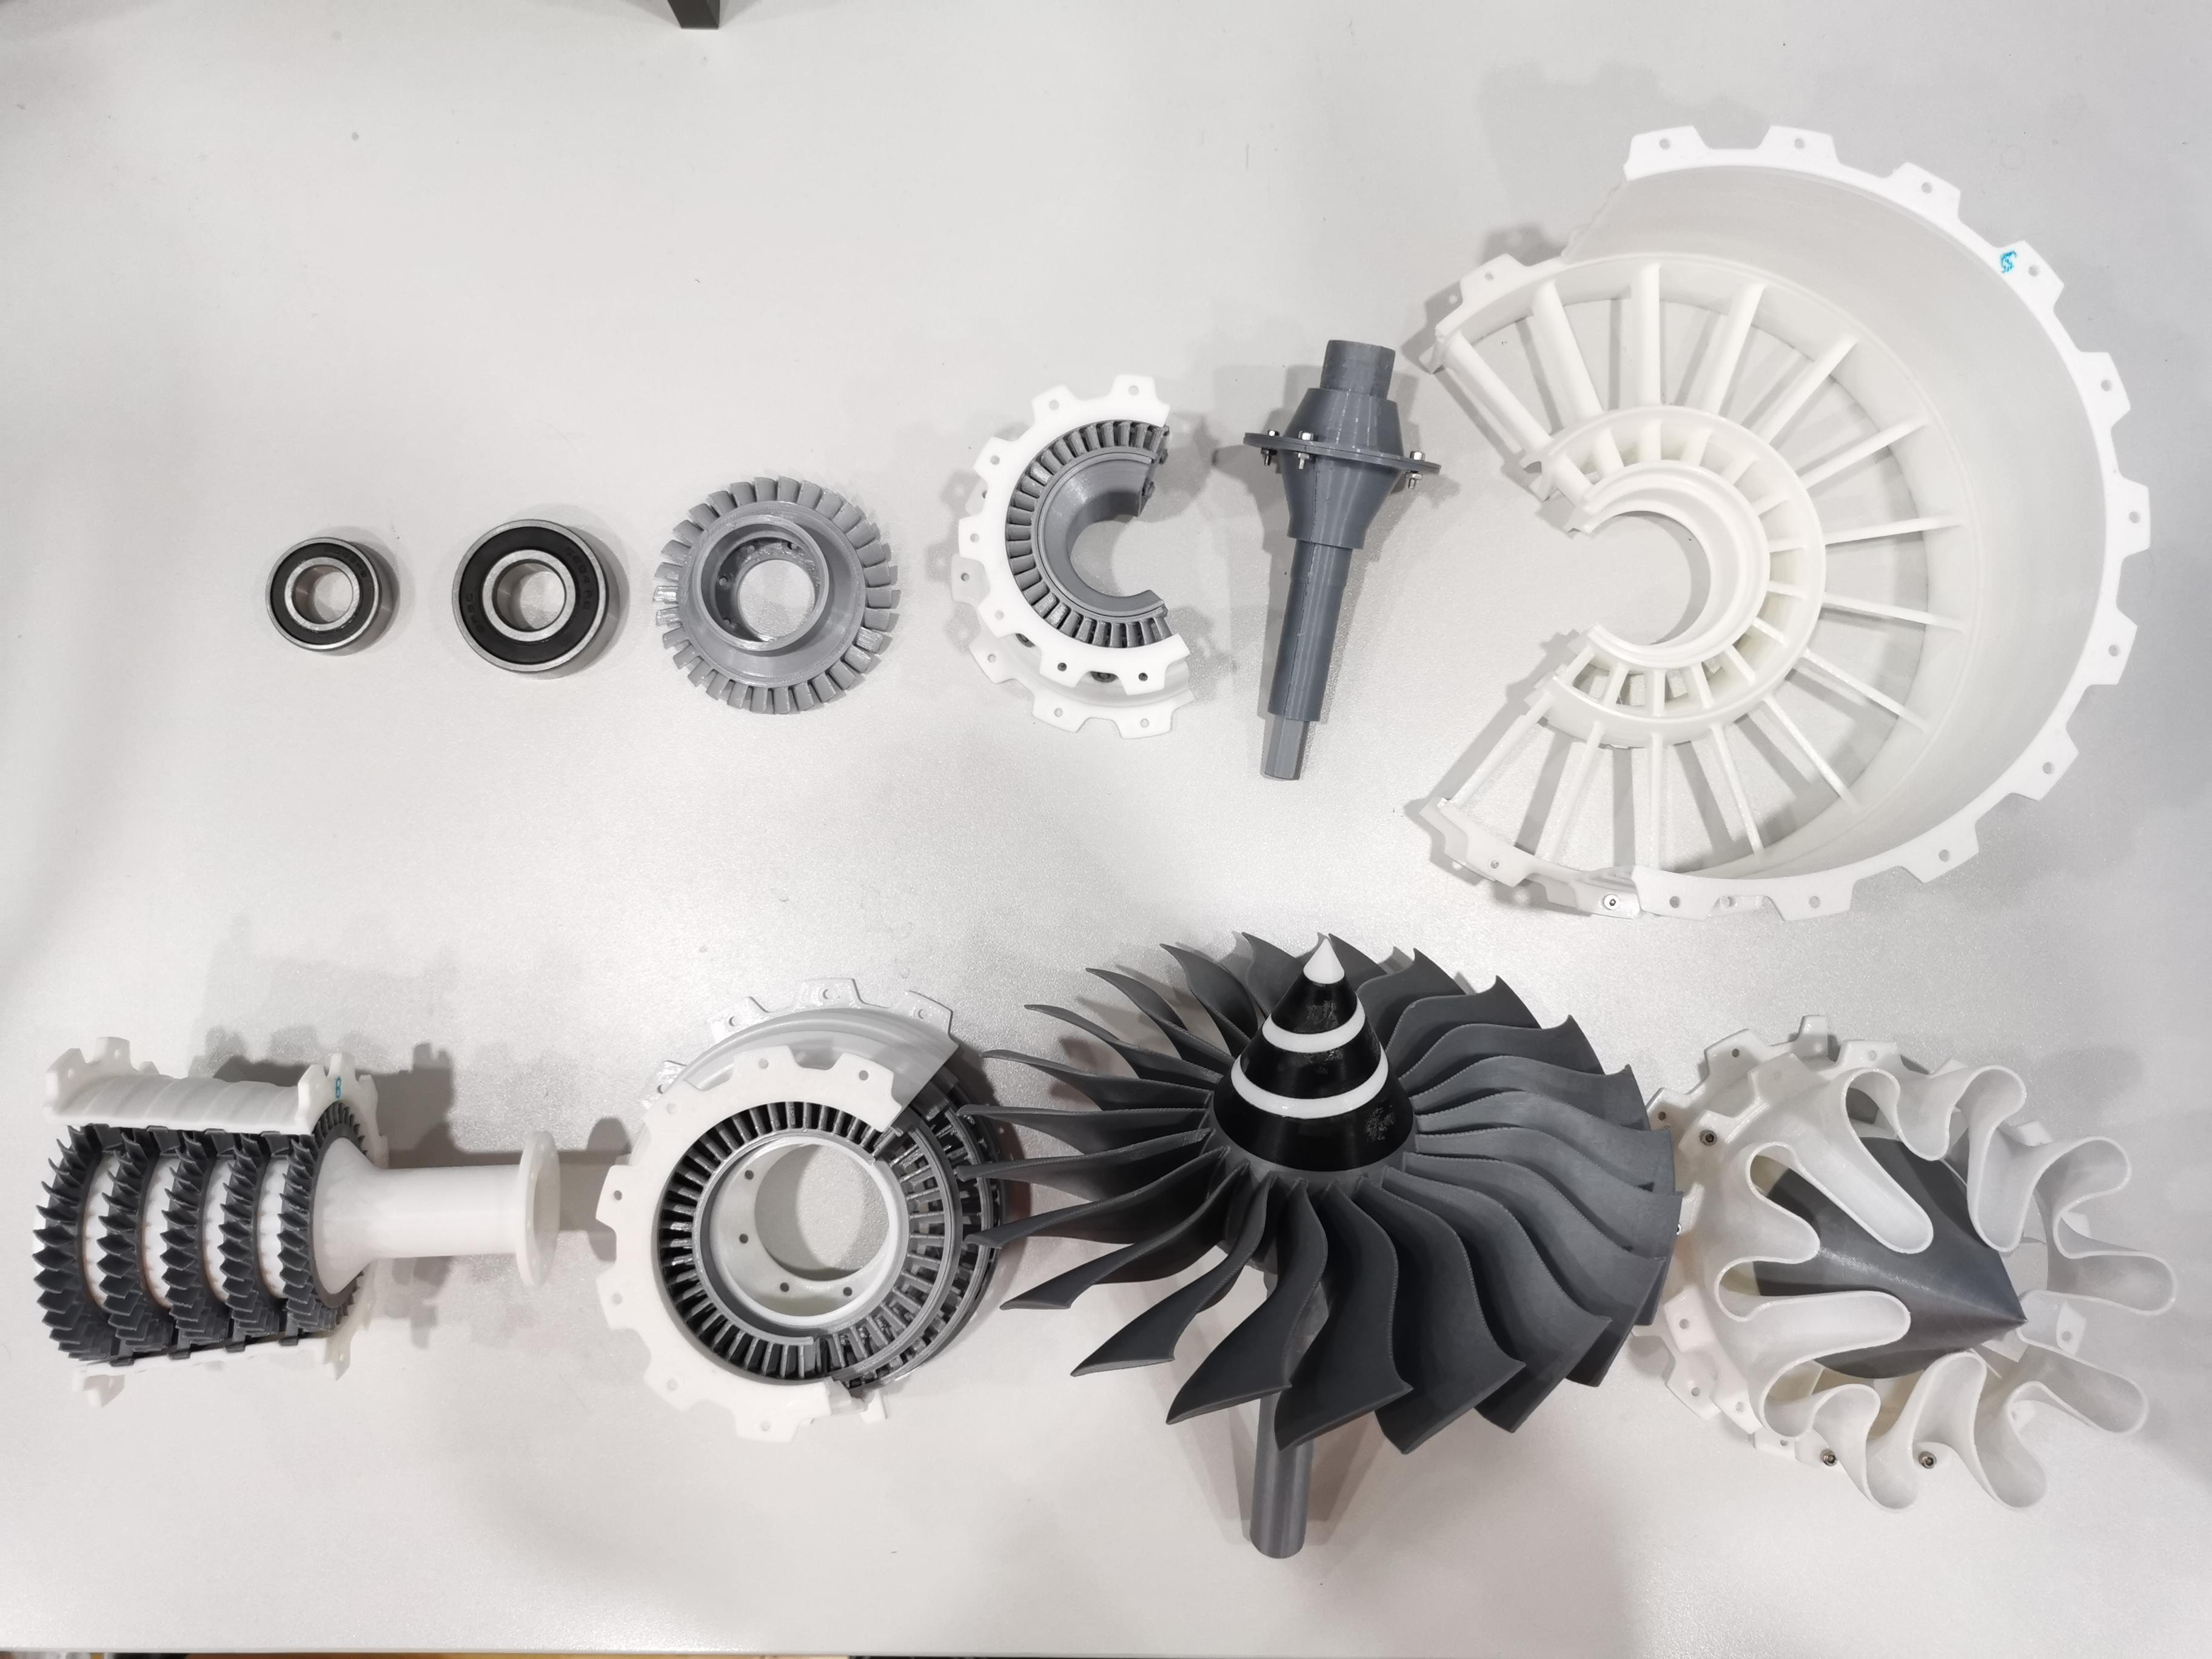Bearing-6003: (244, 519, 415, 685)
Bearing-6204: (435, 495, 625, 694)
Combustion Section: (935, 356, 1212, 760)
Fan Casing and Support: (1400, 113, 2161, 931)
Fan and Low Pressure Shaft: (949, 929, 1684, 1560)
HPT Section: (643, 465, 906, 723)
High Pressure Spool: (26, 1025, 575, 1438)
LPT Section: (585, 972, 1042, 1455)
Low Pressure Spool: (1233, 328, 1453, 795)
Nozzle Section: (1611, 1006, 2184, 1521)
